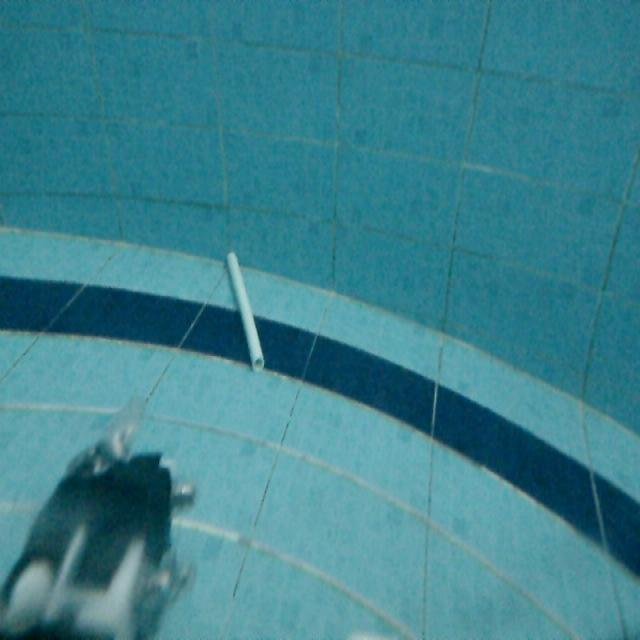Cube: (222, 245, 268, 374)
